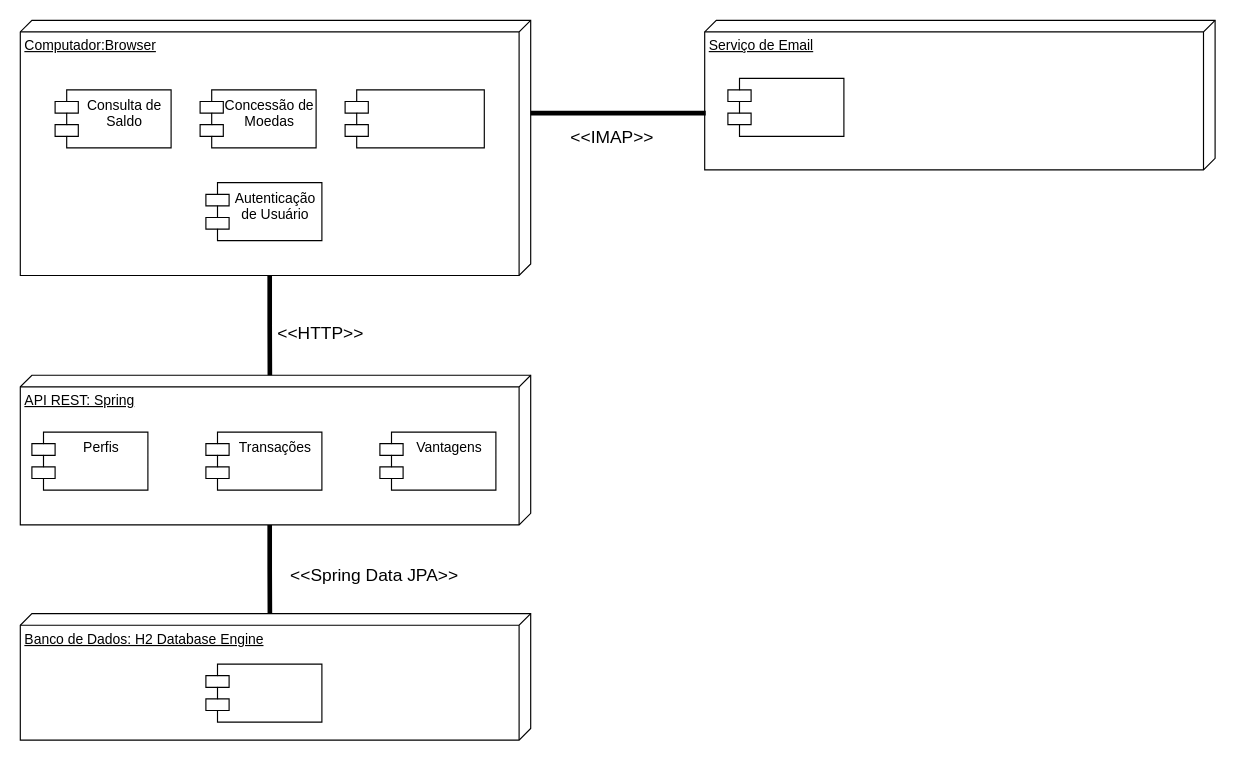
This 1235x761 diagram has some shape labels left out. The shapes that lost their labels are listed below. From the top down, each one's centre as x and y in pixels, then its label:
(x=414, y=118): Reinvindicação de Vantagem
(x=785, y=106): Email de Cupom
(x=263, y=692): Dados da Aplicação
